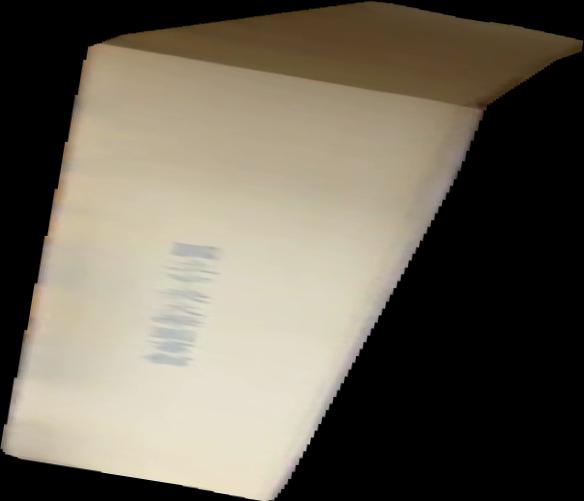backward: (1, 1, 584, 501)
